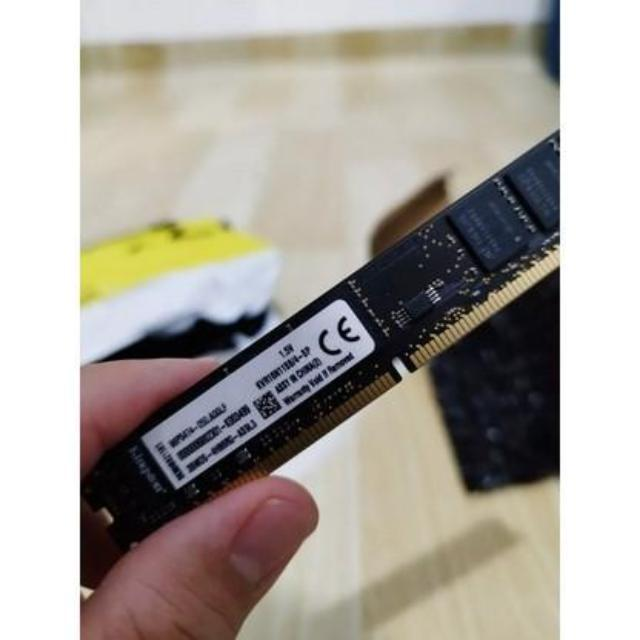RAM: (81, 124, 558, 564)
